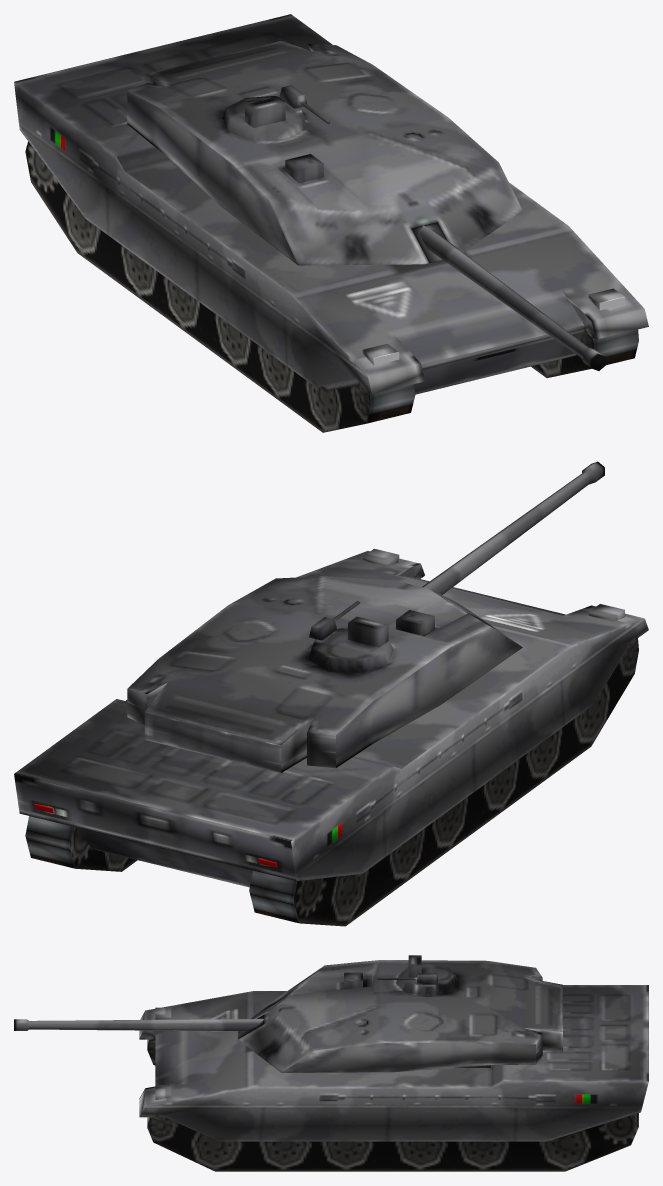
File: challenger.dae
The picture shows the model from 3 angles, top to bottom: view 1: azimuth 30°, elevation 25°; view 2: azimuth 150°, elevation 25°; view 3: azimuth 270°, elevation 25°; orthographic projection. The views are drawn at different scales.
Visible parts, largest first — view 1: Hull, Turret, Barrel; view 2: Hull, Turret, Barrel; view 3: Hull, Turret, Barrel.
Boxes of the visible parts, x1,y1,x2,y2 form: Hull: (14,14,648,432); Turret: (127,41,522,265); Barrel: (419,225,605,370); Hull: (14,549,648,926); Turret: (127,576,522,772); Barrel: (422,461,604,594); Hull: (139,985,648,1171); Turret: (238,955,562,1072); Barrel: (14,1019,263,1031).
Bounding box in the file's own units: 13.42 × 37.44 × 9.52.
Materials: 3 (1 with a texture image).
